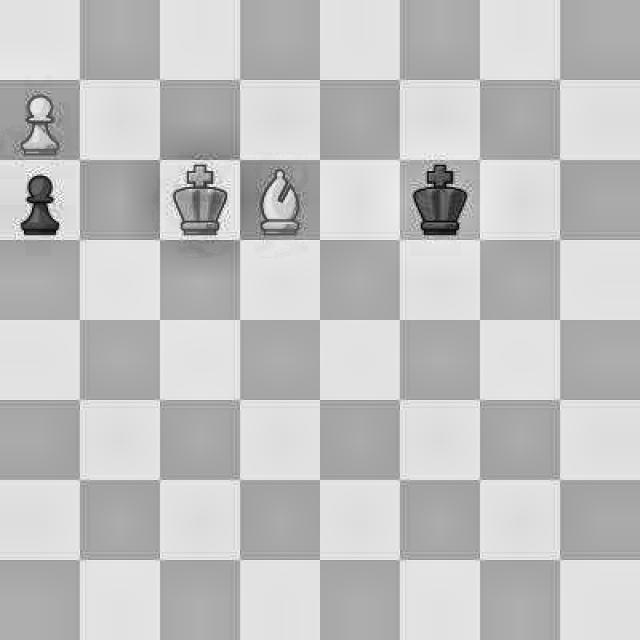black king: (405, 158, 469, 234)
black pawn: (0, 157, 72, 232)
white bishop: (254, 168, 308, 239)
white king: (167, 162, 233, 239)
white pawn: (0, 78, 75, 156)
